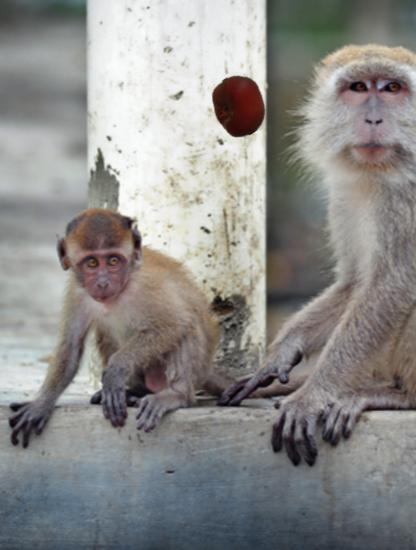Nectarine: (209, 75, 271, 137)
